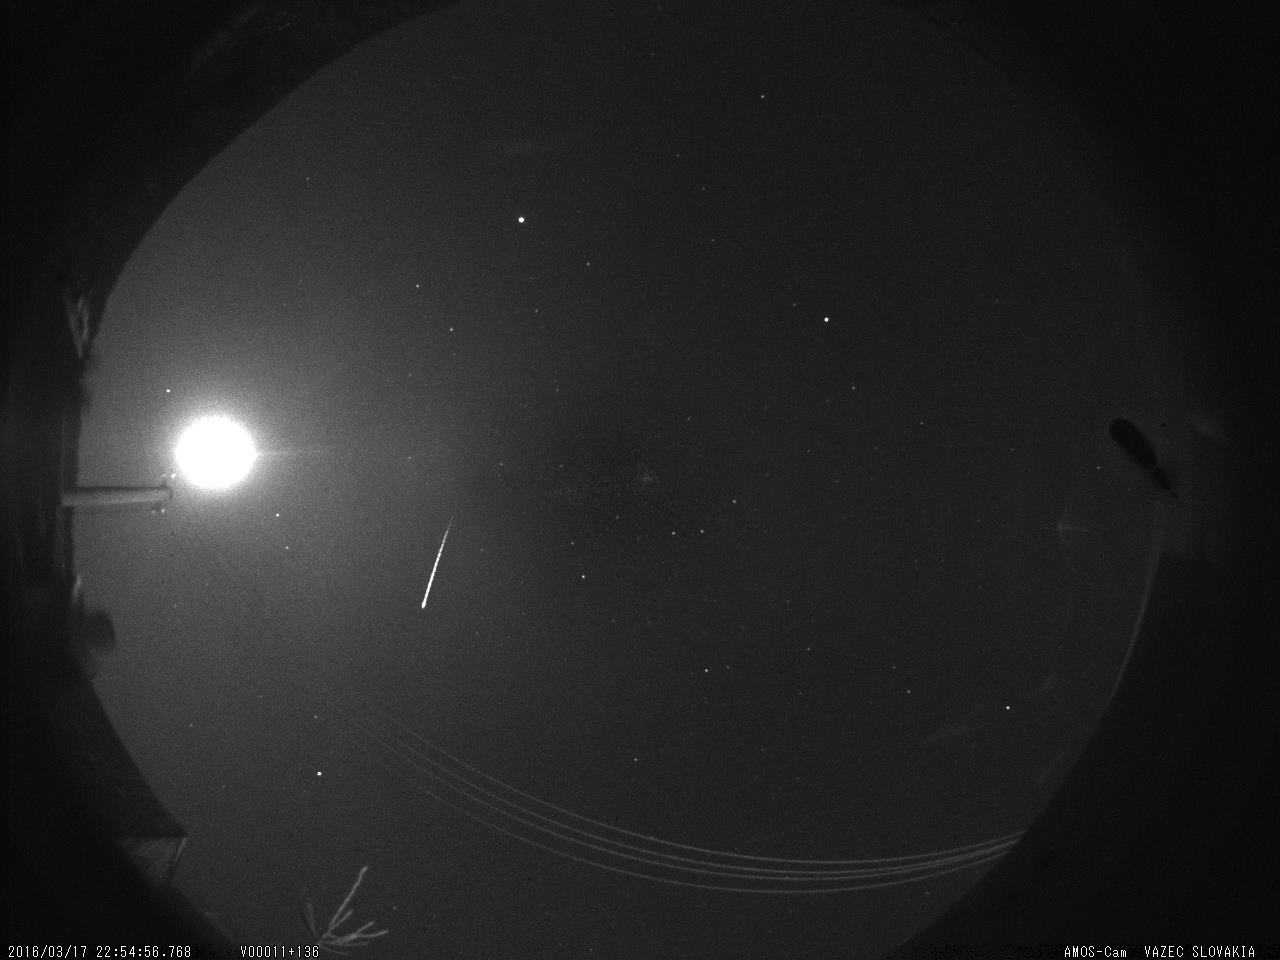meteor: (404, 489, 487, 638)
